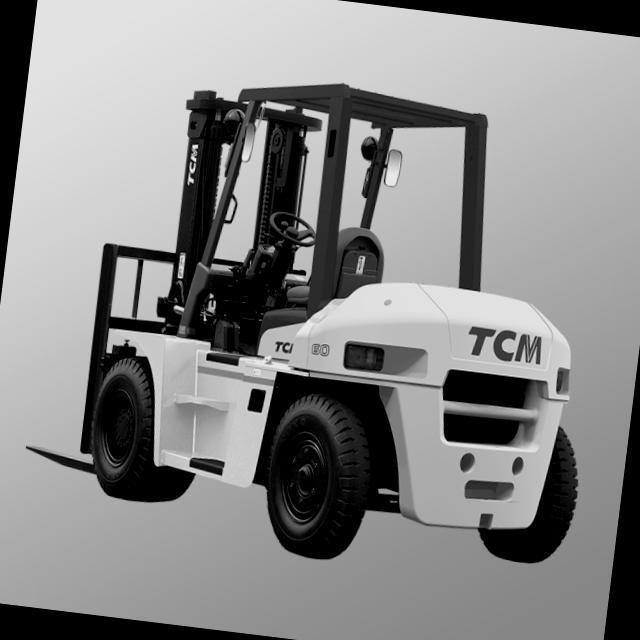forklift: (54, 34, 630, 594)
